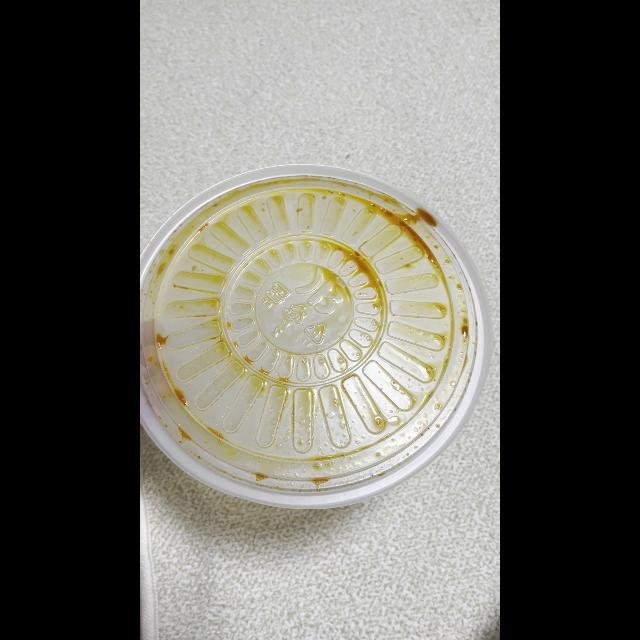dirty: (140, 165, 488, 502)
